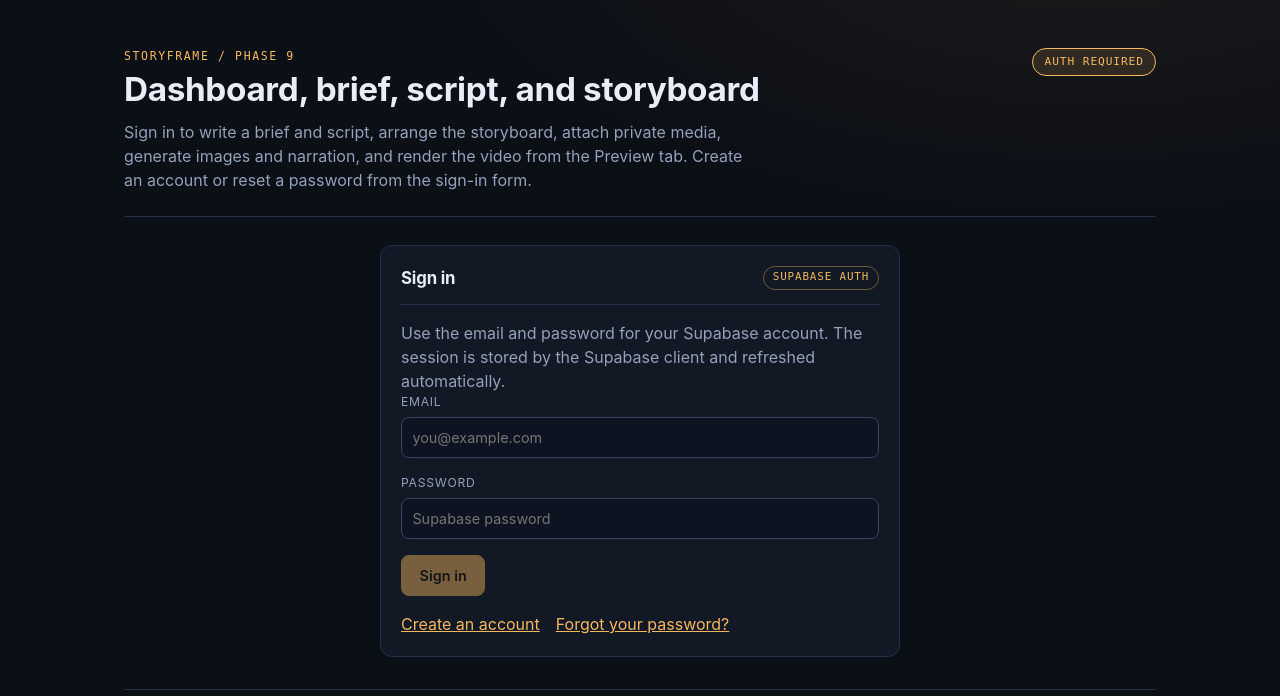
Test case: App authentication › explains a missing session after sign-in instead of silently staying signed out
This screenshot has width=1280, height=696.
expect the heading "Sign in" is shown: met, box [401,268,455,288]
Type "unconfirmed@example.com" into the field labelled "Email". click: [640, 438]
box: [401,417,879,458]
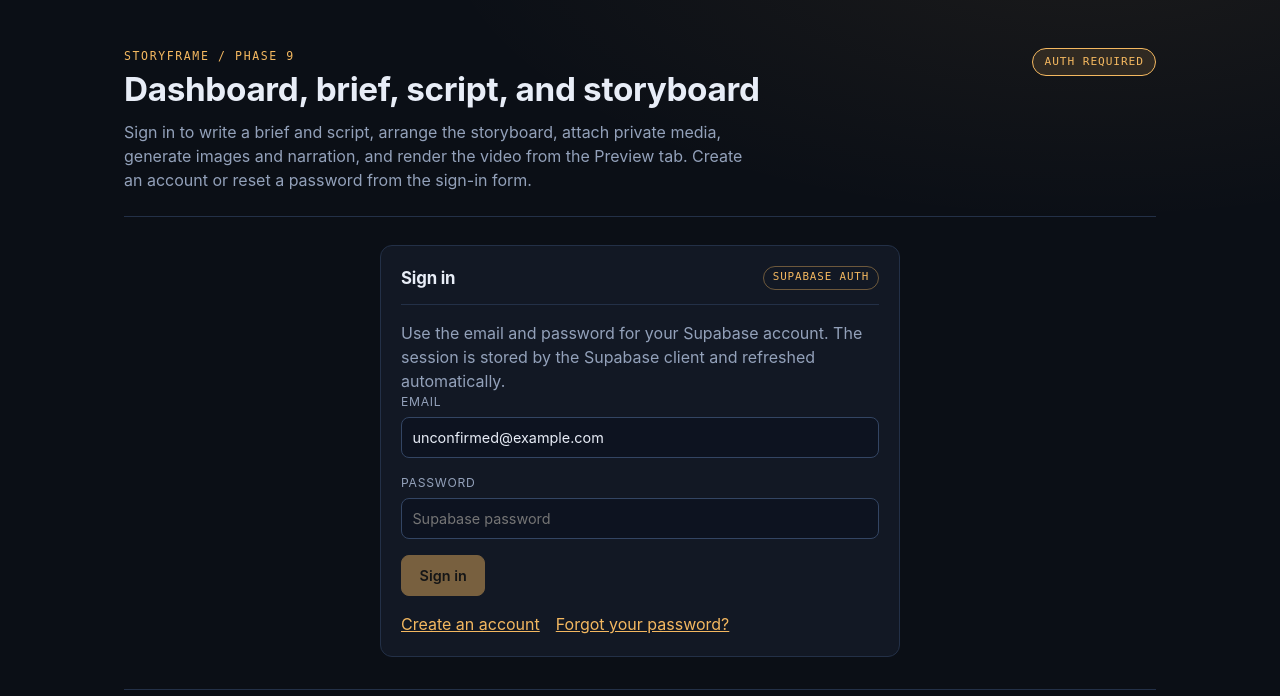
Type "correct horse battery staple" into the password field labelled "Password". click: [640, 518]
box: [401,498,879,539]
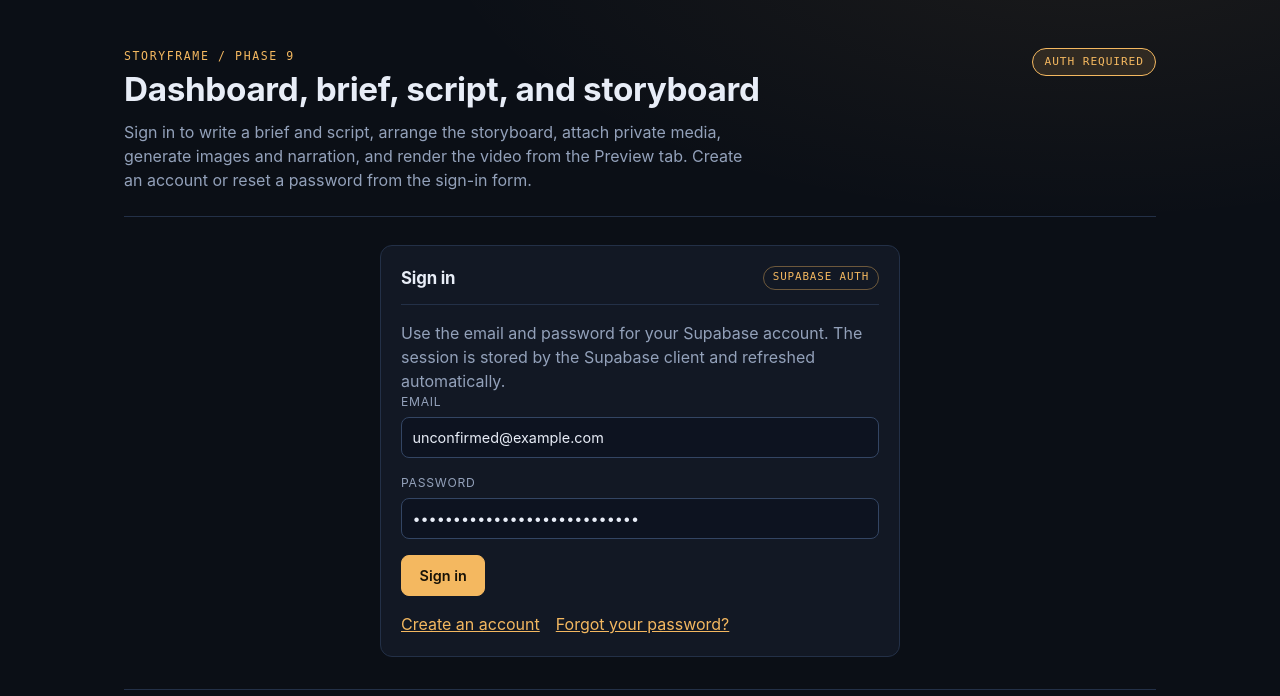
Click the button "Sign in". click: [443, 576]
box: [401,555,485,596]
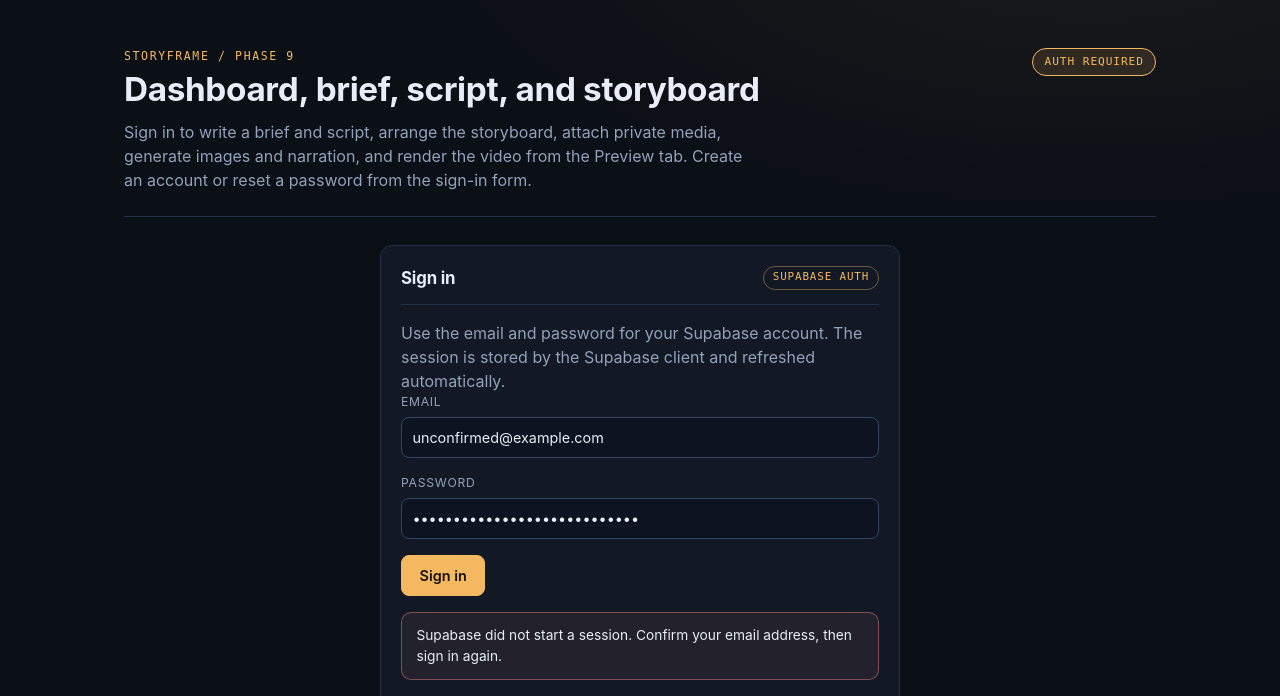
expect the heading "Sign in" is shown: met, box [401,268,455,288]
expect the message shows "Confirm your email address": met, box [416,627,852,664]
